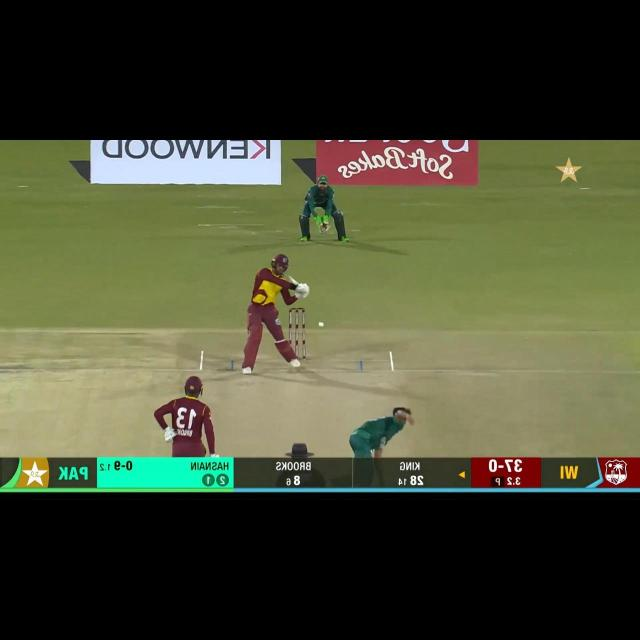bat: (288, 273, 298, 286)
